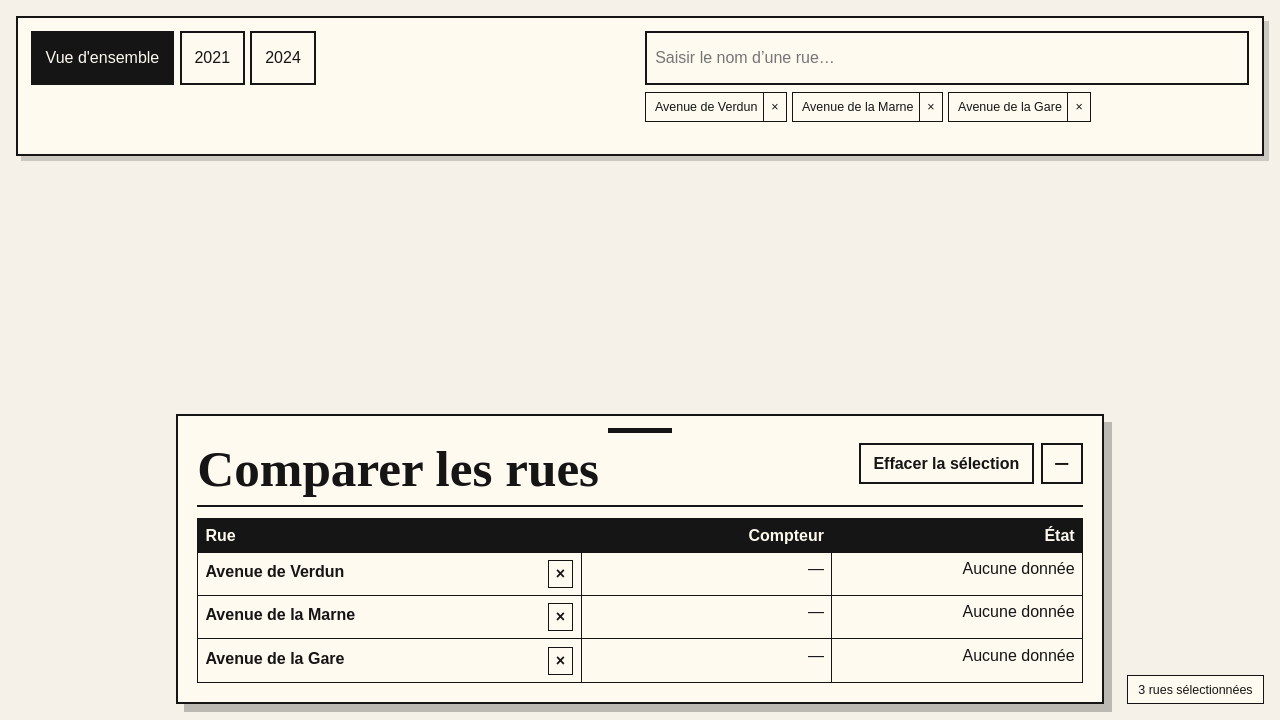
Test case: TrafficExplorer › removes and restores Gare through its Gare du Midi alias
Click the button named "Retirer Avenue de la Gare" at (1079, 107), box [1067,93,1090,121]
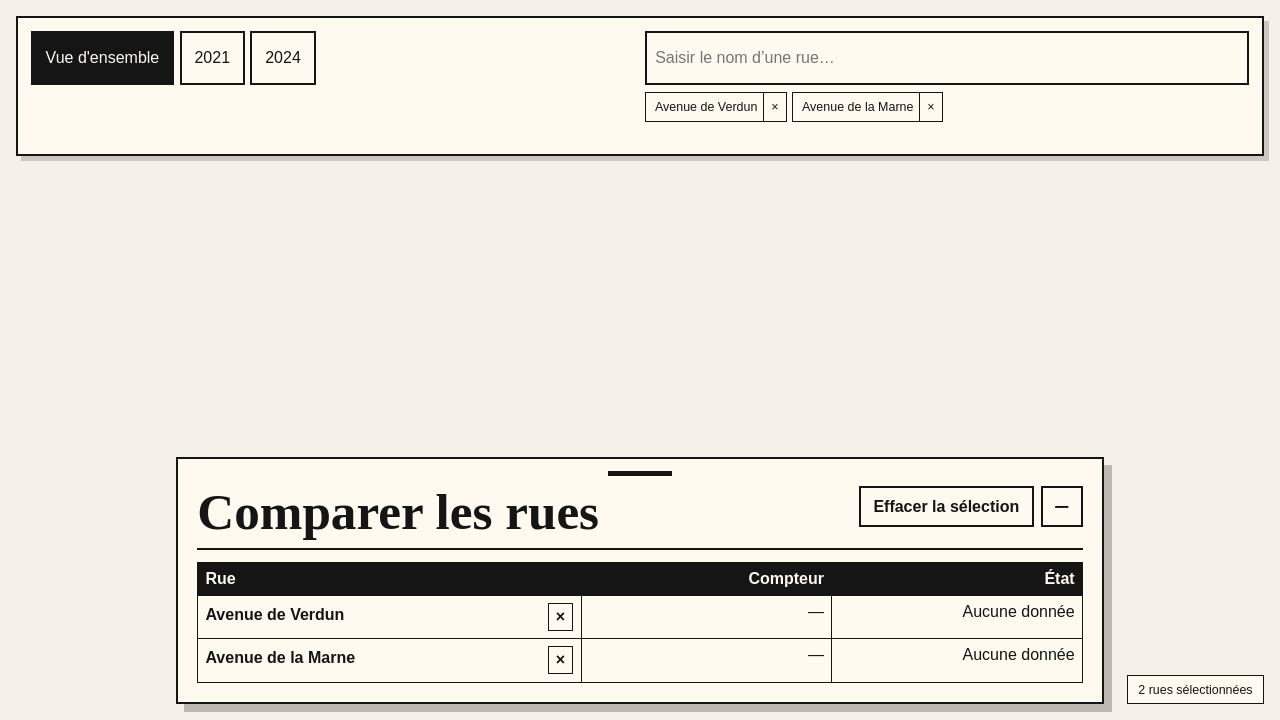
Type "gare du midi" into the dropdown named "Rechercher une rue" at (947, 58), box [645,31,1249,85]
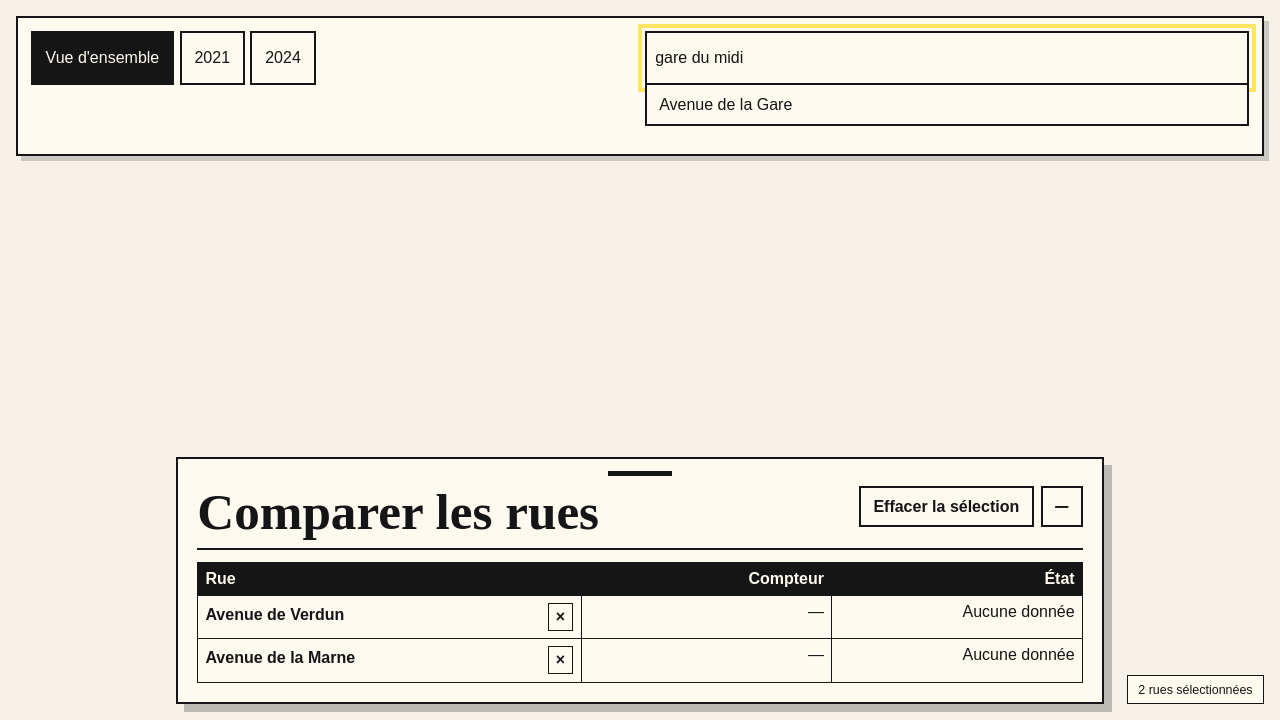
Press Arrowdown Enter
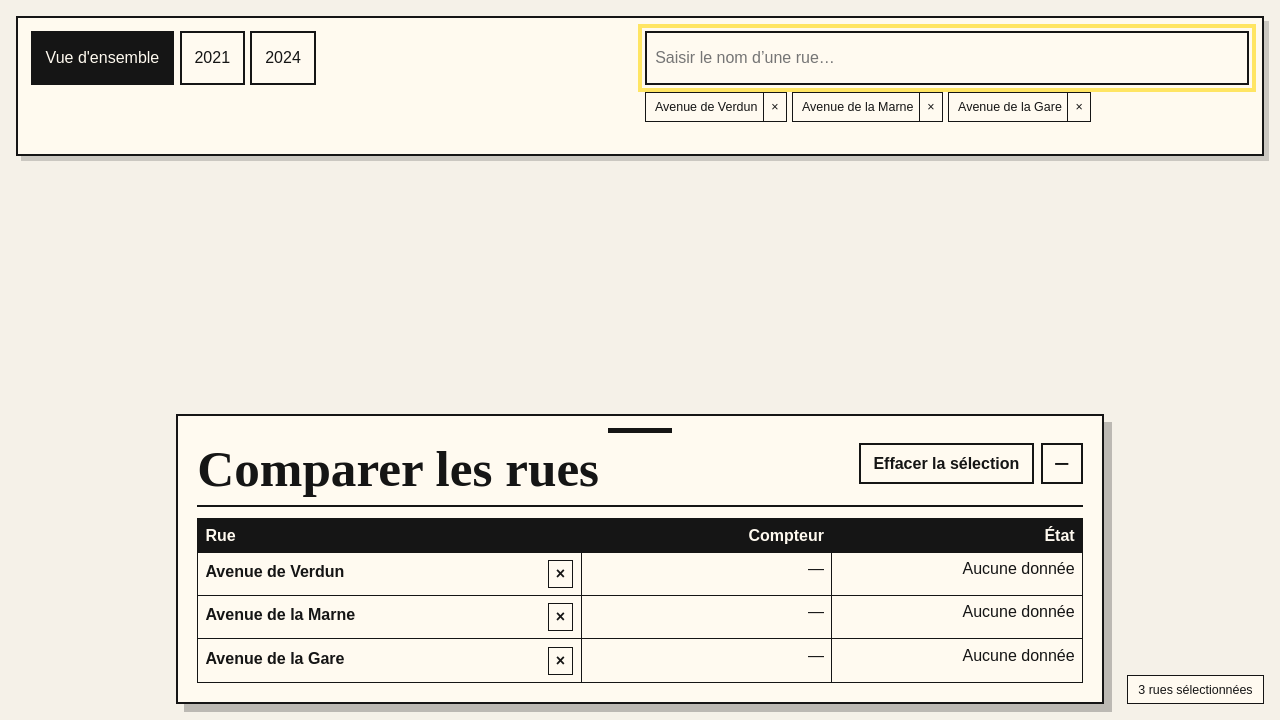
Result: the button named "Retirer Avenue de la Gare" is shown at [1067,93,1090,121]
